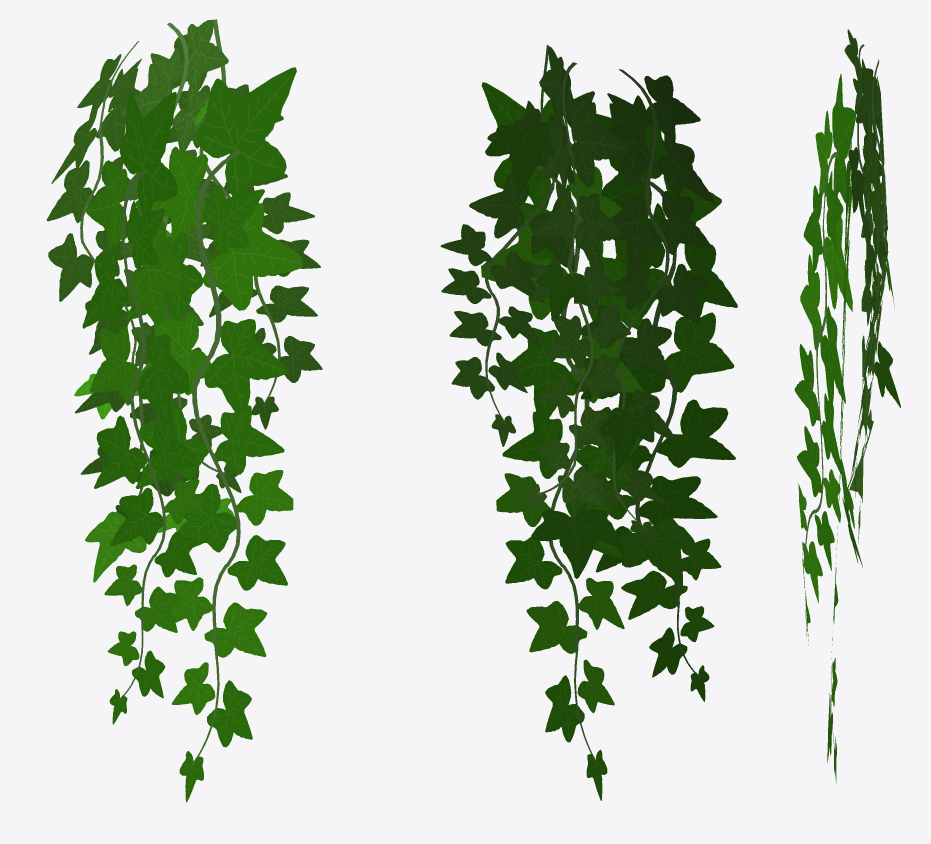
The model's file is PT_Ivy_04.fbx.
The picture shows the model from 3 angles, left to right: view 1: azimuth 30°, elevation 25°; view 2: azimuth 150°, elevation 25°; view 3: azimuth 270°, elevation 25°; orthographic projection. The views are drawn at different scales.
Parts seen in each view (by area): view 1: PT_Ivy_04; view 2: PT_Ivy_04; view 3: PT_Ivy_04.
Boxes of the visible parts, left/top/right/bottom form: PT_Ivy_04: left=46, top=19, right=322, bottom=802; PT_Ivy_04: left=440, top=45, right=737, bottom=800; PT_Ivy_04: left=794, top=29, right=900, bottom=782.
Bounding box in the file's own units: 77.62 × 168 × 25.74.
